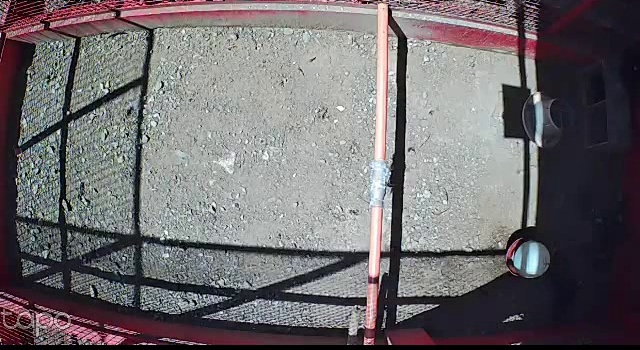Drinker: (503, 236, 554, 280)
Feeder: (521, 89, 578, 150)
